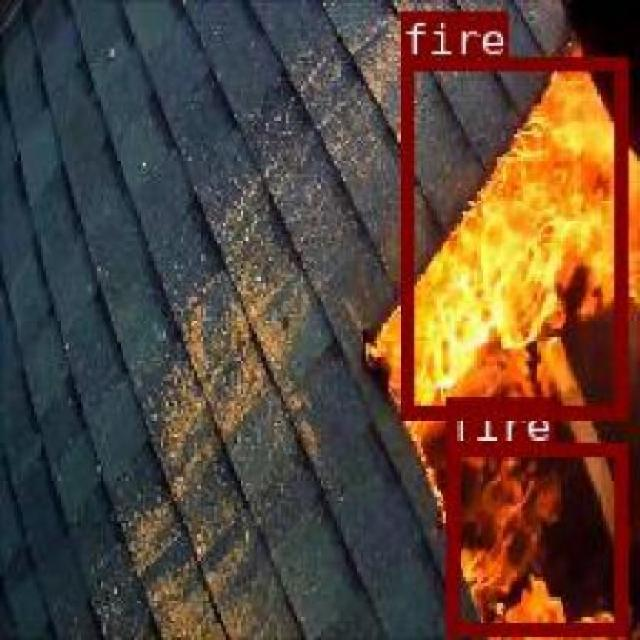Fire: (398, 56, 626, 415), (442, 441, 624, 634)
